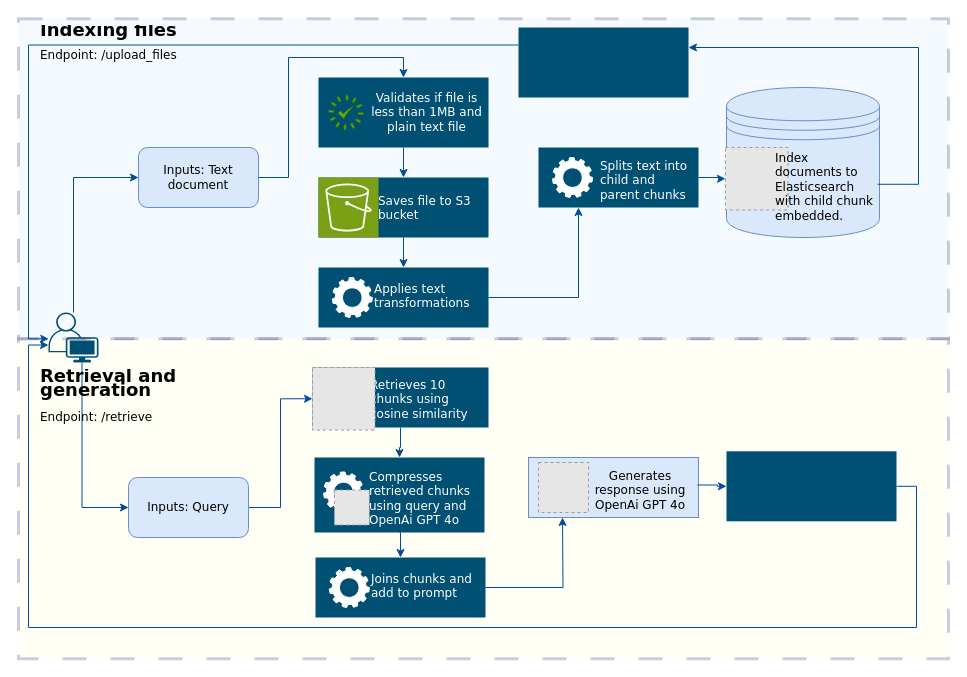
Image size: 967x677. Some labels were removed from this diagram. Grey dashed boxes stand in for pictures. Each missing label, with the centre of its shape:
"Return number of documents added to vector store and file path in S3" belongs at pixel 603 62.
"Returns query, answer and chunks used" belongs at pixel 811 486.
